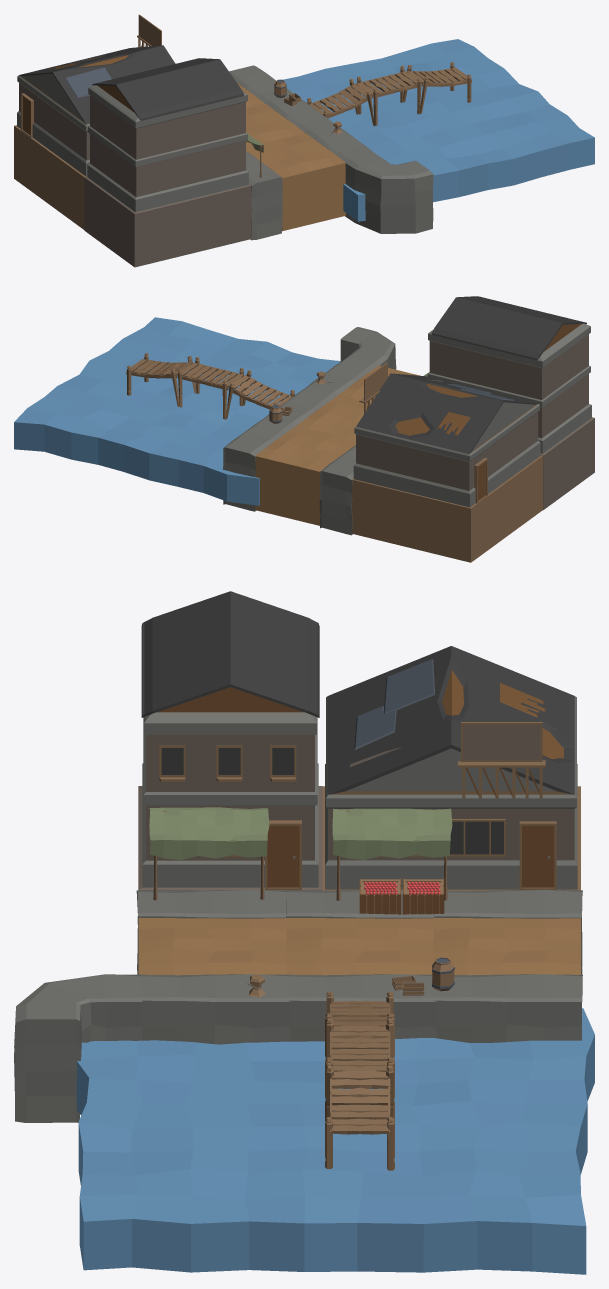
Rendered from port.fbx.
3 renders of one model, top to bottom at view 1: azimuth 30°, elevation 25°; view 2: azimuth 150°, elevation 25°; view 3: azimuth 270°, elevation 25°, orthographic. The views are drawn at different scales.
Visible parts, largest first — view 1: Cube.017, Grid, Cube.009, Cube.012, Cube.003, Cube.001, Cube.015, Cube.005, Cube.018, Cube.002, Cube.006, Cube.010; view 2: Grid, Cube.009, Cube.017, Cube.007, Cube.001, Cube.008, Cube.006, Cube.005, Cube.003, Cube.018, Cube.002, Cube.010 (+1 smaller); view 3: Grid, Cube.017, Cube.009, Cube.003, Cube.001, Cube.018, Cube.006, Cube.012, Cube.005, Cube.007, Cube.002, Cube.016 (+7 smaller).
Part boxes in pixels (x1=…): Cube.017: x1=84, y1=58, x2=251, y2=267; Grid: x1=283, y1=39, x2=594, y2=221; Cube.009: x1=14, y1=45, x2=175, y2=229; Cube.012: x1=246, y1=133, x2=345, y2=231; Cube.003: x1=345, y1=153, x2=433, y2=233; Cube.001: x1=307, y1=62, x2=471, y2=126; Cube.015: x1=246, y1=151, x2=282, y2=240; Cube.005: x1=246, y1=104, x2=304, y2=147; Cube.018: x1=304, y1=124, x2=375, y2=162; Cube.002: x1=264, y1=95, x2=333, y2=132; Cube.006: x1=229, y1=65, x2=292, y2=103; Cube.010: x1=137, y1=14, x2=161, y2=47; Grid: x1=14, y1=317, x2=340, y2=505; Cube.009: x1=352, y1=373, x2=543, y2=562; Cube.017: x1=427, y1=296, x2=594, y2=509; Cube.007: x1=255, y1=426, x2=355, y2=525; Cube.001: x1=126, y1=353, x2=294, y2=419; Cube.008: x1=319, y1=445, x2=355, y2=535; Cube.006: x1=223, y1=417, x2=295, y2=511; Cube.005: x1=296, y1=396, x2=370, y2=440; Cube.003: x1=340, y1=327, x2=396, y2=369; Cube.018: x1=306, y1=357, x2=377, y2=396; Cube.002: x1=265, y1=387, x2=336, y2=426; Cube.010: x1=359, y1=362, x2=387, y2=413; Grid: x1=76, y1=1008, x2=594, y2=1274; Cube.017: x1=138, y1=591, x2=322, y2=917; Cube.009: x1=322, y1=646, x2=580, y2=890; Cube.003: x1=14, y1=974, x2=142, y2=1122; Cube.001: x1=325, y1=991, x2=394, y2=1170; Cube.018: x1=141, y1=974, x2=290, y2=1044; Cube.006: x1=433, y1=974, x2=582, y2=1042; Cube.012: x1=138, y1=918, x2=286, y2=975; Cube.005: x1=286, y1=918, x2=433, y2=975; Cube.007: x1=433, y1=918, x2=580, y2=975; Cube.002: x1=288, y1=974, x2=437, y2=1041; Cube.016: x1=149, y1=807, x2=269, y2=900.
Bounding box in the file's own units: 5699 × 1998 × 3492.
